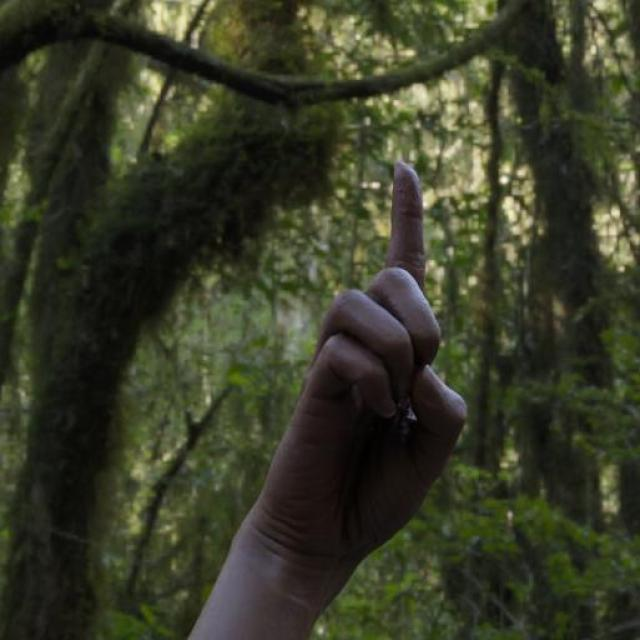D: (231, 158, 470, 576)
